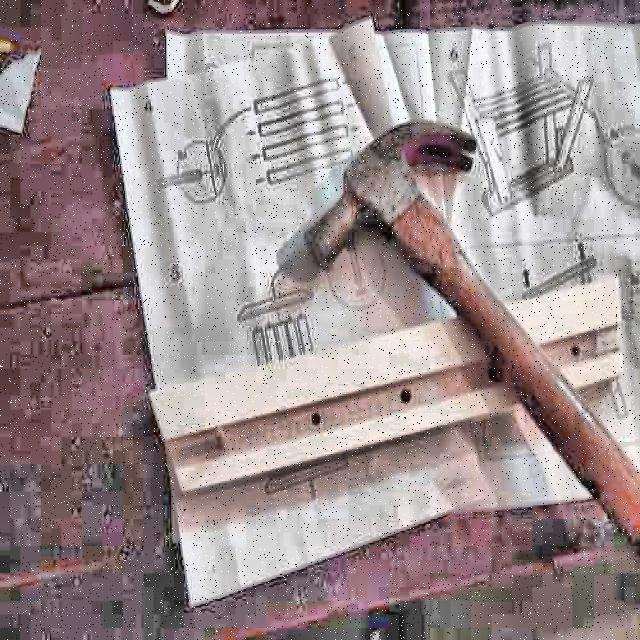hammer: (304, 119, 640, 532)
